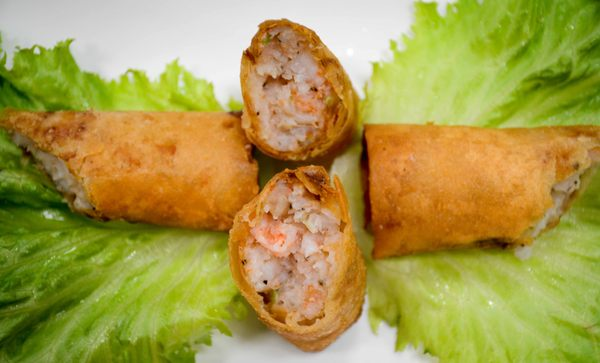soup: (363, 122, 600, 261), (0, 107, 259, 231)
